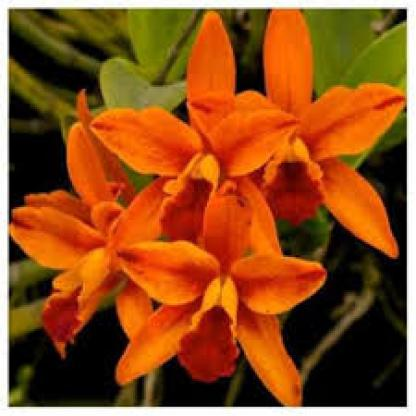ANGGREK: (29, 21, 395, 395)
